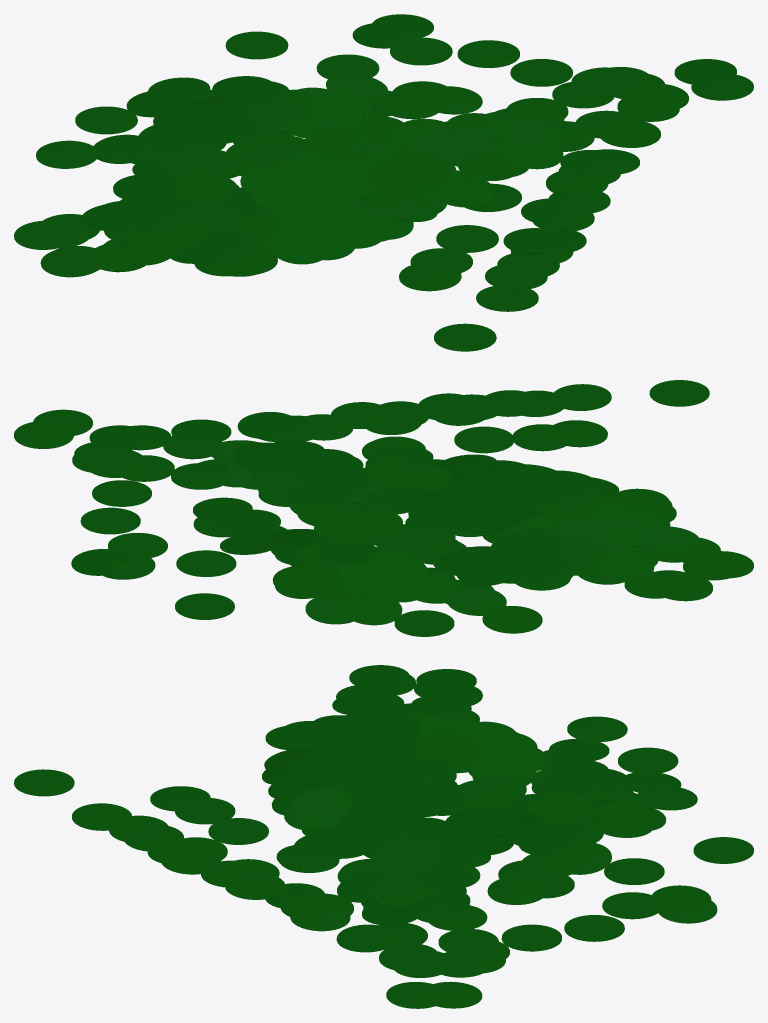
Rendered from PileOfCoins2.fbx.
3 views of the same model, one above another, from view 1: azimuth 30°, elevation 25°; view 2: azimuth 150°, elevation 25°; view 3: azimuth 270°, elevation 25° (orthographic). The views are drawn at different scales.
Parts seen in each view (by area): view 1: Coin001LP_inst000; view 2: Coin001LP_inst000; view 3: Coin001LP_inst000.
Part boxes in pixels (<box>): Coin001LP_inst000: <box>14,14,753,351</box>; Coin001LP_inst000: <box>14,380,753,636</box>; Coin001LP_inst000: <box>14,665,753,1008</box>.
Bounding box in the file's own units: 0.4011 × 0.0094 × 0.3665.
